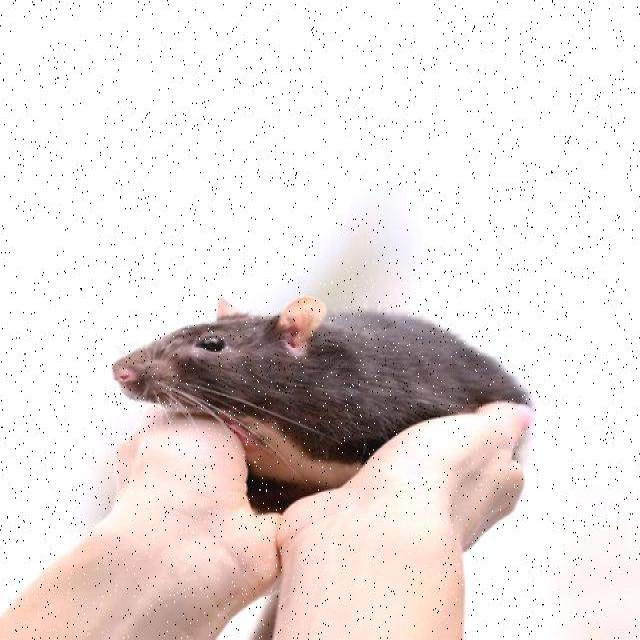rat: (109, 292, 535, 484)
